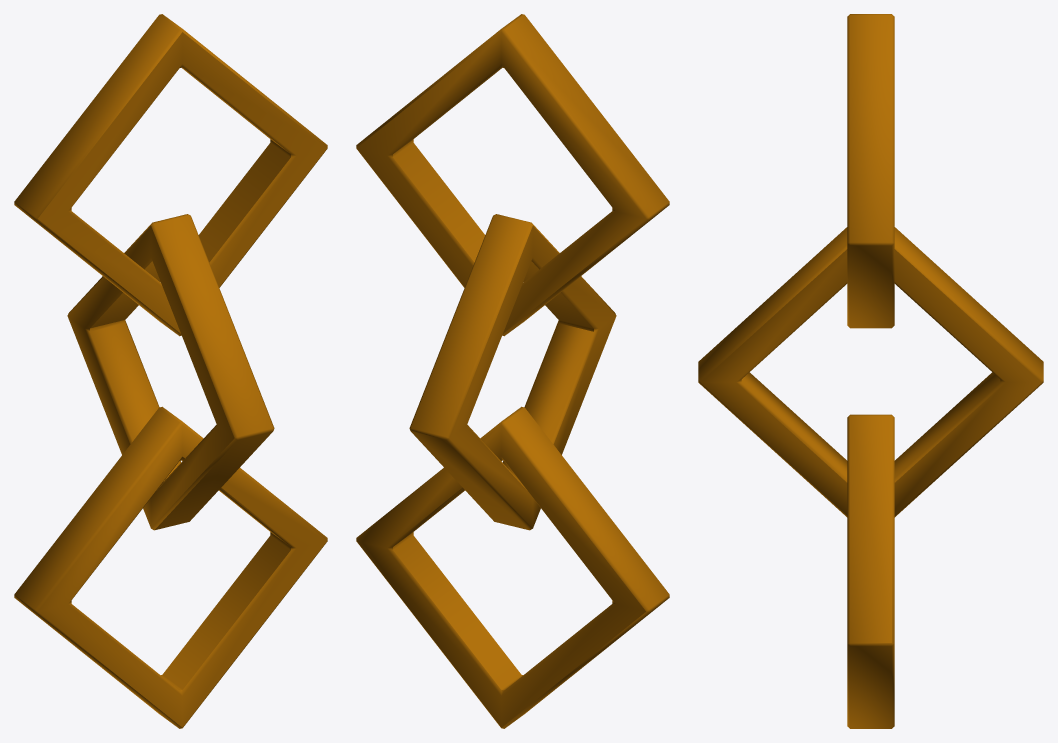
Rendered from Lantern Chain.fbx.
3 views of the same model, side by side, from view 1: azimuth 30°, elevation 25°; view 2: azimuth 150°, elevation 25°; view 3: azimuth 270°, elevation 25° (orthographic). The views are drawn at different scales.
Visible parts, largest first — view 1: Lantern Chain; view 2: Lantern Chain; view 3: Lantern Chain.
Boxes of the visible parts, box(x1,y1,x2,y2) form: Lantern Chain: box(14, 14, 327, 728); Lantern Chain: box(356, 14, 669, 728); Lantern Chain: box(698, 14, 1043, 728).
Size of the model in its own units: 15.08 by 34.4 by 15.08.
